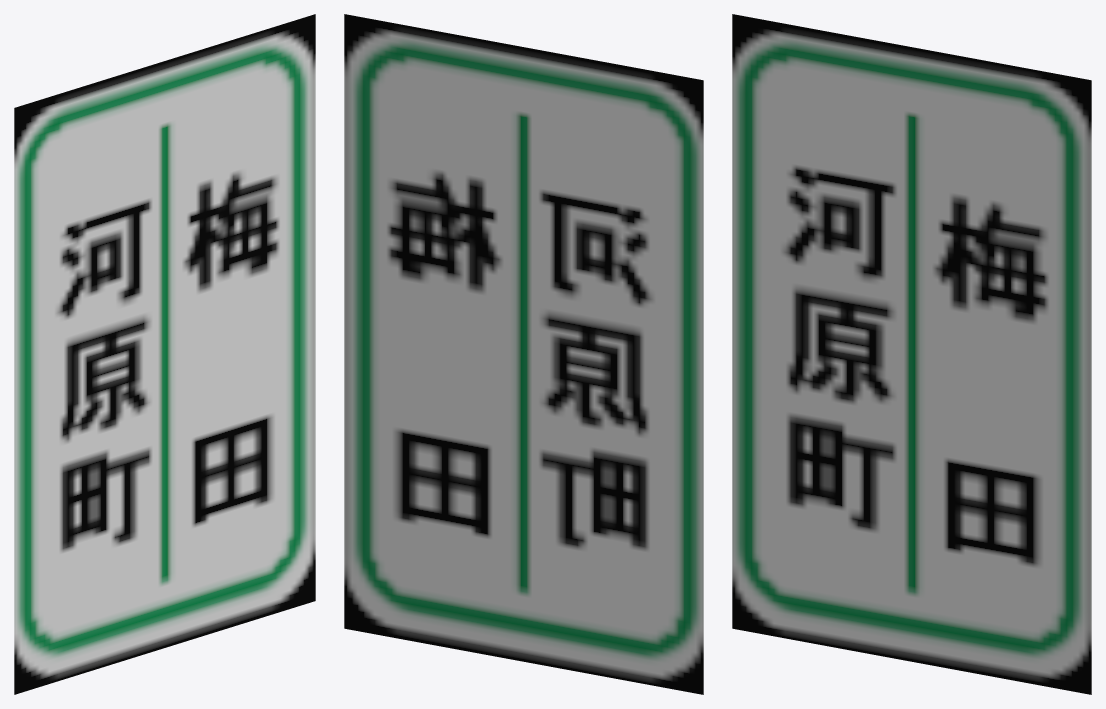
The model's file is H2300_0_KAWARA.glb.
3 views of the same model, side by side, from view 1: azimuth 30°, elevation 25°; view 2: azimuth 150°, elevation 25°; view 3: azimuth 330°, elevation 25° (orthographic). The views are drawn at different scales.
Parts seen in each view (by area): view 1: FRAME_ROOT; view 2: FRAME_ROOT; view 3: FRAME_ROOT.
Boxes of the visible parts, x1,y1,x2,y2 form: FRAME_ROOT: (14, 14, 315, 694); FRAME_ROOT: (344, 14, 703, 694); FRAME_ROOT: (732, 14, 1091, 694).
Bounding box in the file's own units: 0.7325 × 1.27 × 0.0823.
Materials: 1 (1 with a texture image).
